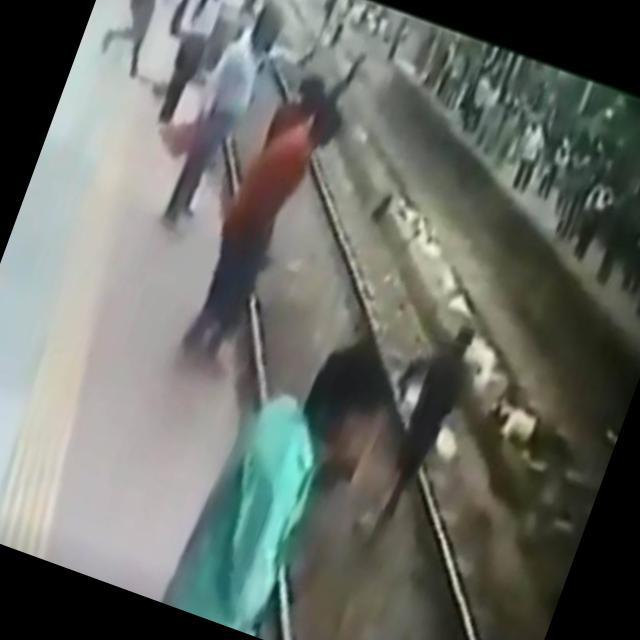person: (165, 310, 403, 640), (174, 80, 351, 390), (354, 310, 492, 556), (154, 0, 289, 245), (140, 0, 238, 136)
